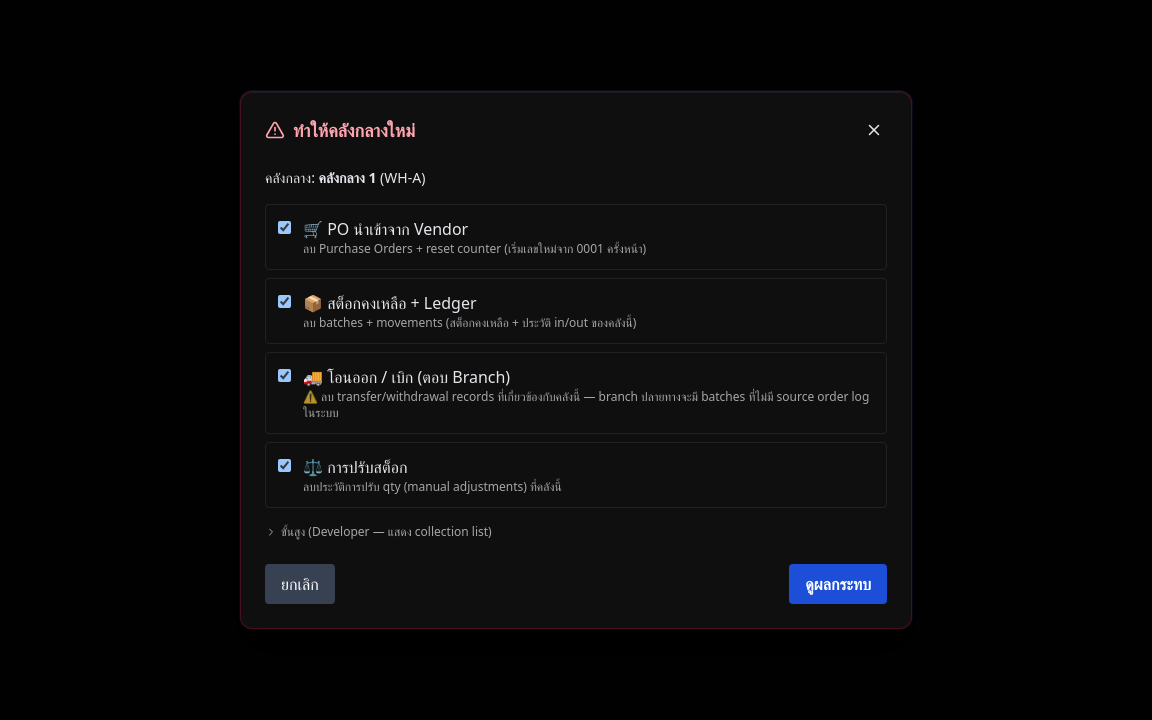
Scenario: CF1 CentralMakeFreshModal — Rule I full-flow simulate › CF1.2 — preview button disabled when zero buckets ticked
Click the 1st checkbox.
click(284, 228)  # box [278, 221, 291, 234]
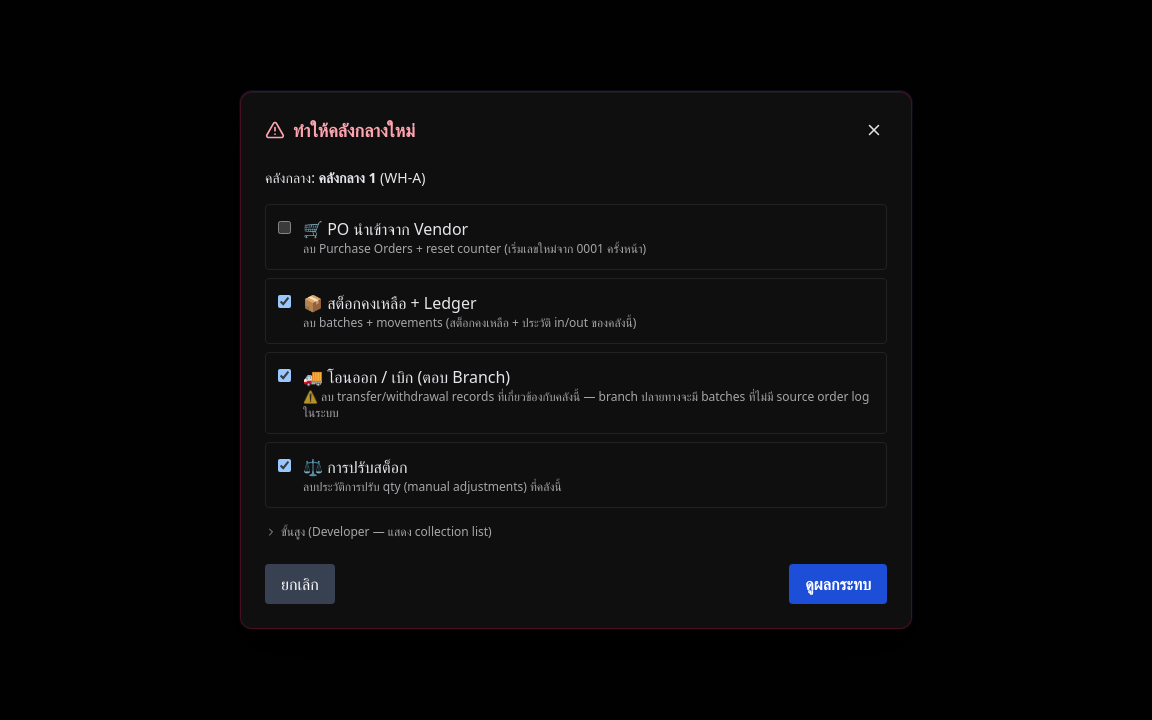
Click the 2nd checkbox.
click(284, 302)  # box [278, 295, 291, 308]
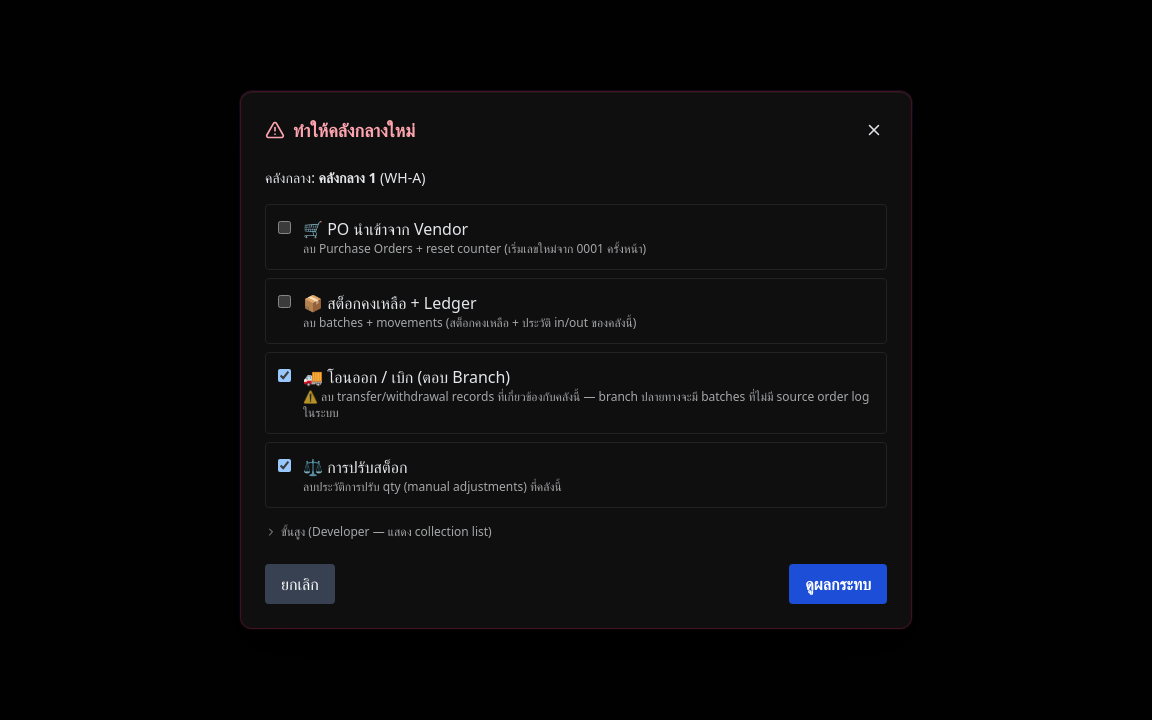
Click the 3rd checkbox.
click(284, 376)  # box [278, 369, 291, 382]
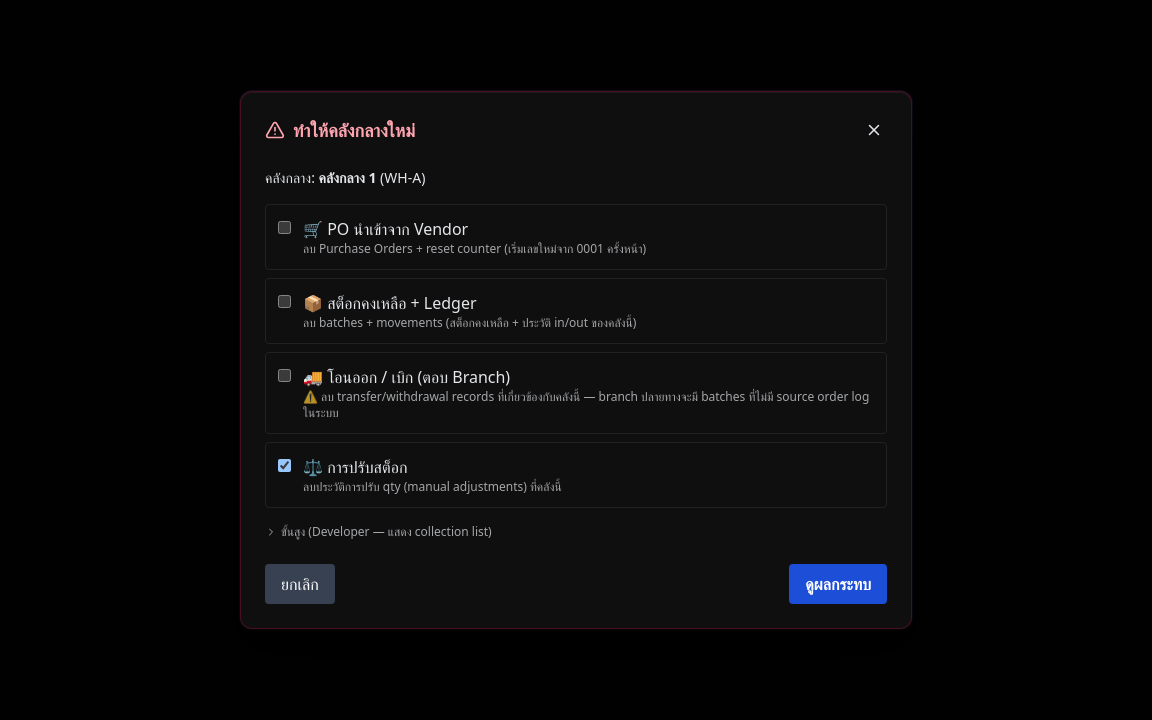
Click the 4th checkbox.
click(284, 466)  # box [278, 459, 291, 472]
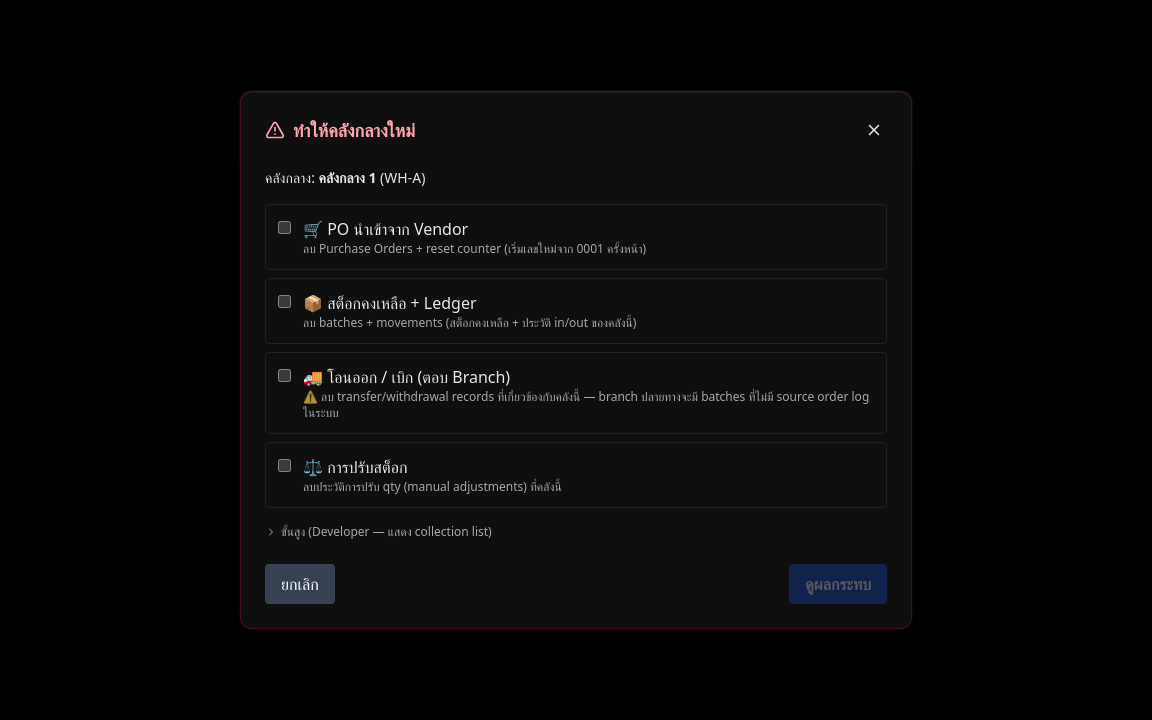
Check: the button with test id "cs-preview-btn" is disabled, box [789, 564, 887, 604]
